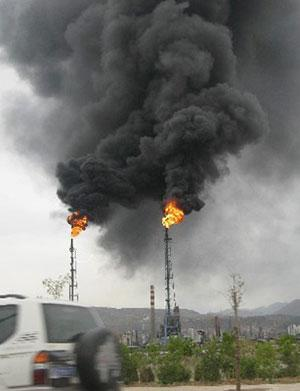smoke: (1, 1, 300, 210)
